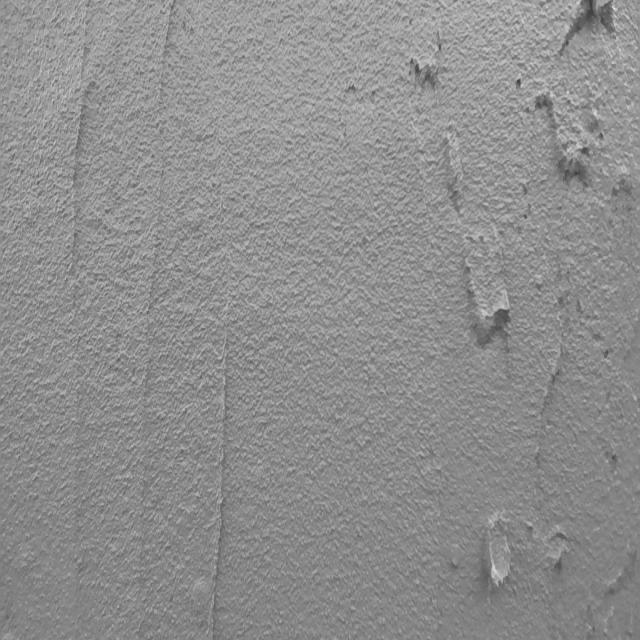trowels marks: (136, 0, 178, 640), (62, 11, 93, 548), (204, 286, 234, 640)
